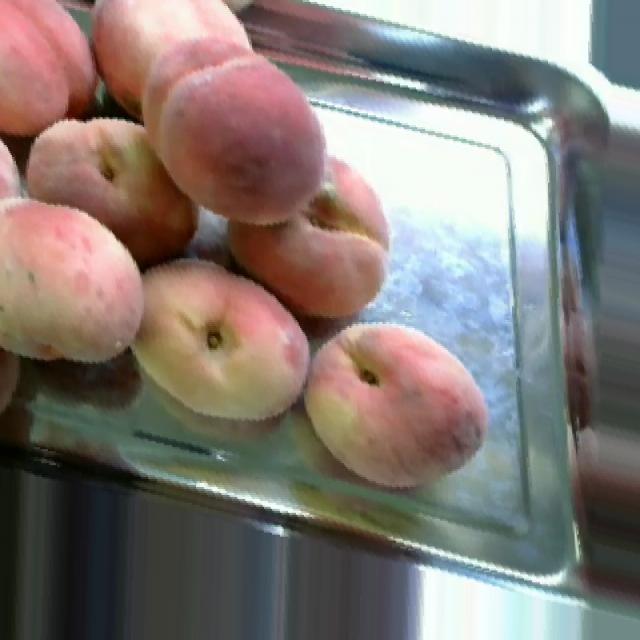Fruit: (86, 0, 353, 254), (284, 300, 511, 509), (113, 235, 331, 447), (208, 131, 415, 346), (0, 167, 175, 392), (0, 0, 95, 161)
